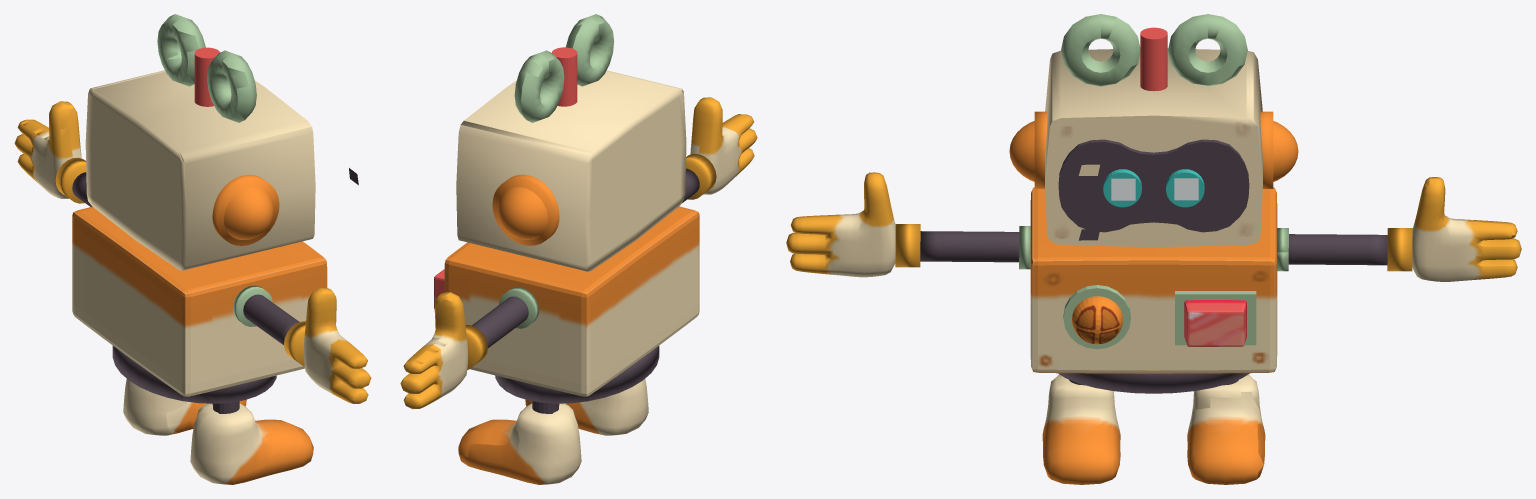
Rendered from 卡通小人.glb.
3 views of the same model, side by side, from view 1: azimuth 30°, elevation 25°; view 2: azimuth 150°, elevation 25°; view 3: azimuth 270°, elevation 25° (orthographic). The views are drawn at different scales.
Bounding box in the file's own units: 1.5 × 3.01 × 4.52.
3 materials, 2 textured.
